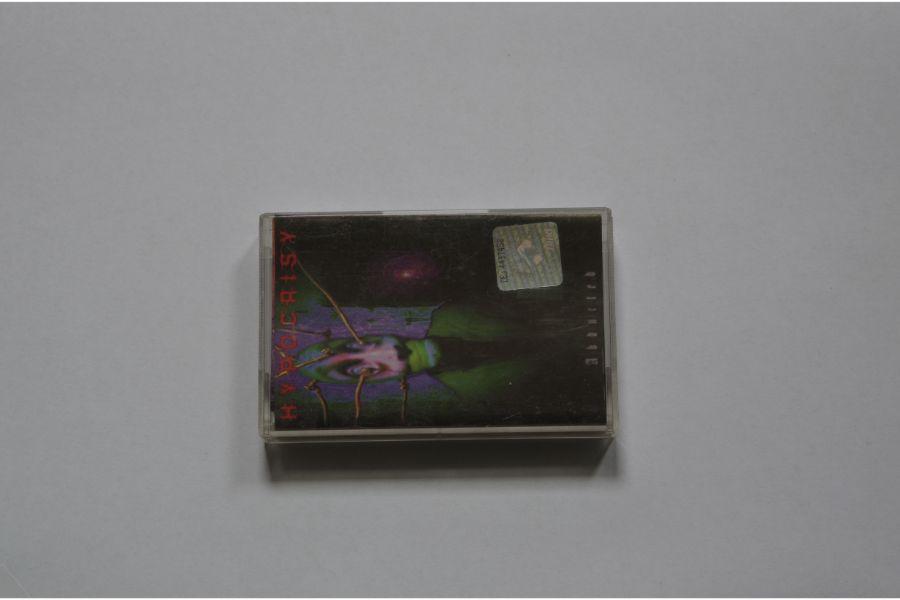album: (255, 206, 621, 441)
